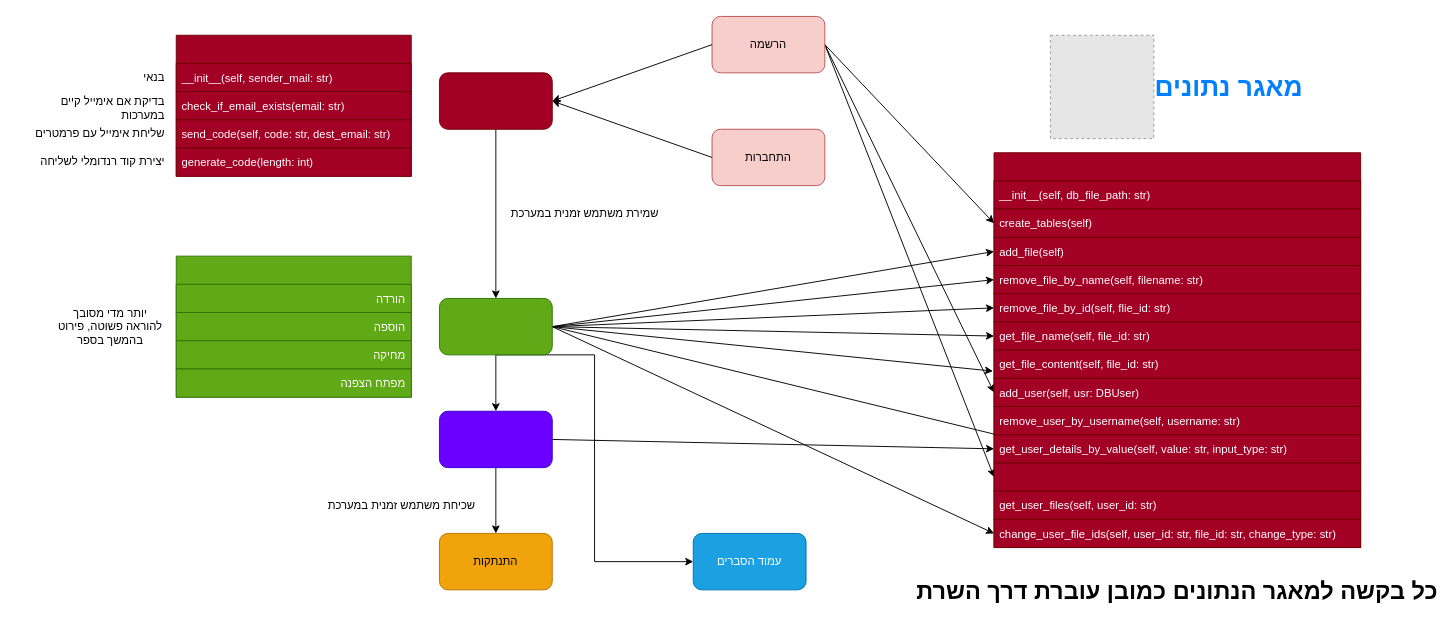
The diagram is 1456 pixels wide and 635 high, and some of its shapes have lost their labels. Grey dashed boxes stand in for pictures. Here are the shapes that lost their labels. From the top down, the box of each, then its label:
(175, 34, 411, 176): TwoStepAuth
(439, 72, 552, 129): אימות אימייל
(175, 255, 411, 397): פונקציונליות קבצים
(439, 298, 552, 355): קבצים
(993, 152, 1361, 548): DBCommands
(439, 410, 552, 468): עמוד פרופיל
(993, 462, 1361, 491): check_email_existance(self, email: str)
